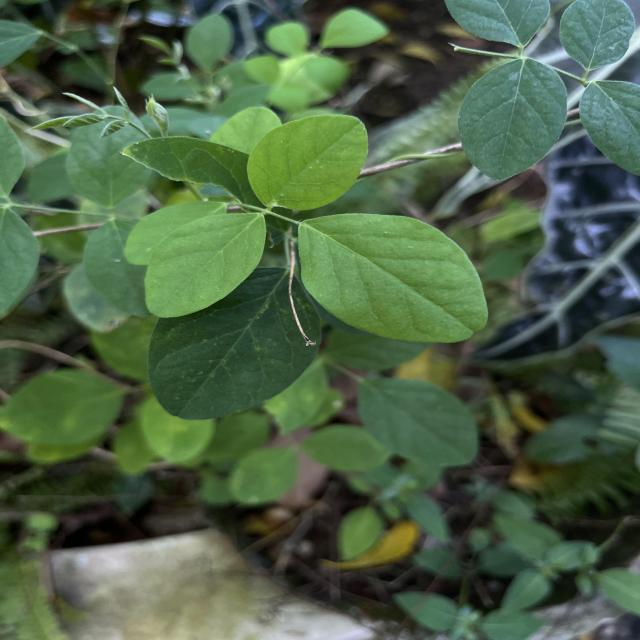Clitoria ternatea: (296, 212, 490, 345), (456, 56, 568, 182), (143, 212, 268, 319), (246, 113, 369, 212)
